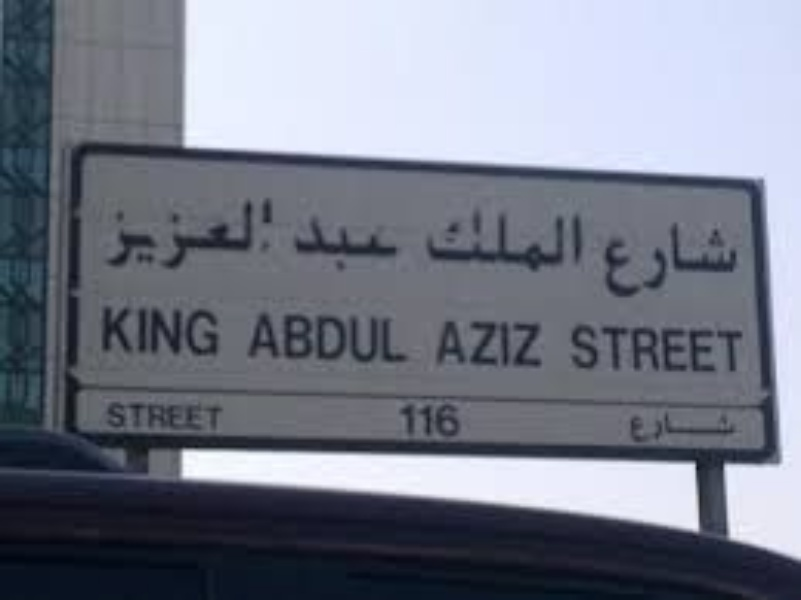text: (609, 217, 624, 301), (625, 217, 640, 301), (641, 217, 656, 301), (657, 217, 672, 301), (673, 217, 688, 301), (689, 217, 704, 301), (705, 217, 720, 301), (721, 217, 736, 301), (97, 192, 112, 273), (113, 192, 128, 273), (129, 192, 144, 273), (145, 192, 160, 273), (161, 192, 176, 273), (177, 192, 192, 273), (193, 192, 208, 273), (209, 192, 224, 273), (225, 192, 240, 273), (241, 192, 256, 273), (257, 192, 272, 273), (433, 208, 448, 276), (449, 208, 464, 276), (465, 208, 480, 276), (481, 208, 496, 276), (497, 208, 512, 276), (513, 208, 528, 276), (529, 208, 544, 276), (545, 208, 560, 276), (561, 208, 576, 276), (305, 208, 320, 276), (321, 208, 336, 276), (337, 208, 352, 276), (353, 208, 368, 276), (369, 208, 384, 276), (385, 208, 400, 276), (291, 208, 304, 276), (257, 310, 272, 365), (273, 310, 288, 365), (289, 310, 304, 365), (305, 310, 320, 365), (321, 310, 336, 365), (337, 310, 352, 365), (353, 310, 368, 365), (369, 310, 384, 365), (385, 310, 400, 365), (529, 319, 545, 369), (577, 322, 592, 375), (593, 322, 608, 375), (609, 322, 624, 375), (625, 322, 640, 375), (641, 322, 656, 375), (657, 322, 672, 375), (673, 322, 688, 375), (689, 322, 704, 375), (705, 322, 720, 375), (721, 322, 736, 375), (449, 319, 464, 369), (465, 319, 480, 369), (481, 319, 496, 369), (497, 319, 512, 369), (513, 319, 528, 369), (113, 307, 128, 356), (129, 307, 144, 356), (145, 307, 160, 356), (161, 307, 176, 356), (177, 307, 192, 356), (193, 307, 208, 356), (245, 310, 256, 365), (424, 208, 432, 276), (577, 208, 585, 276), (209, 307, 220, 356), (641, 409, 656, 443), (657, 409, 672, 443), (673, 409, 688, 443), (689, 409, 704, 443), (705, 409, 720, 443), (401, 403, 416, 437), (417, 403, 432, 437), (433, 403, 448, 437), (737, 217, 743, 301), (273, 192, 279, 273), (113, 399, 128, 430), (129, 399, 144, 430), (145, 399, 160, 430), (161, 399, 176, 430), (177, 399, 192, 430), (193, 399, 208, 430), (103, 307, 112, 356), (401, 310, 409, 365), (209, 399, 223, 430), (721, 409, 733, 443), (604, 217, 608, 301), (570, 322, 576, 375), (737, 322, 743, 375), (631, 409, 640, 443), (449, 403, 458, 437), (103, 399, 112, 430), (443, 319, 448, 369), (401, 208, 403, 276), (399, 403, 400, 437)
